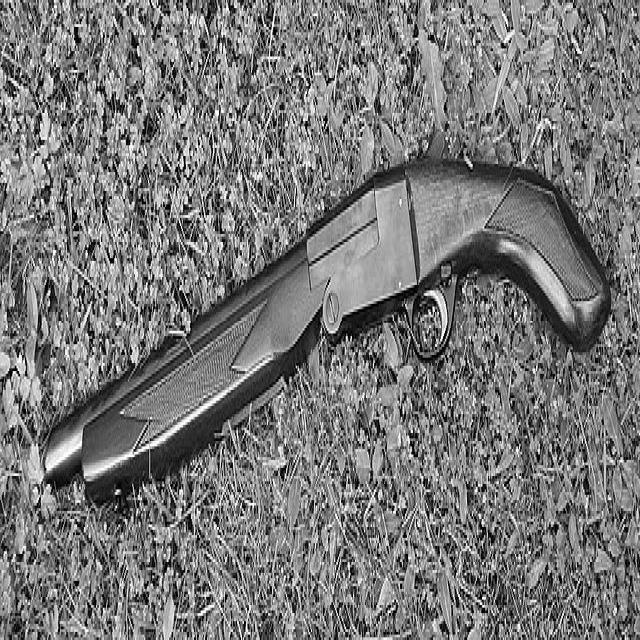Short-Gun: (39, 150, 614, 568)
